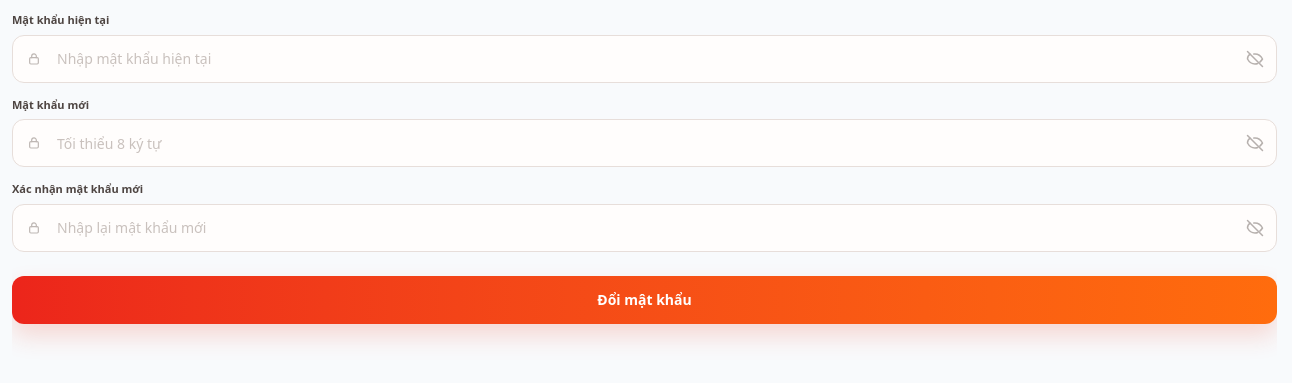
it: ChangePasswordForm › hiển thị title lỗi 400 không kèm field errors ở ô mật khẩu hiện tại
In the password field labelled "Mật khẩu hiện tại": (644, 58) [12, 34, 1277, 82], type "wrong-password"
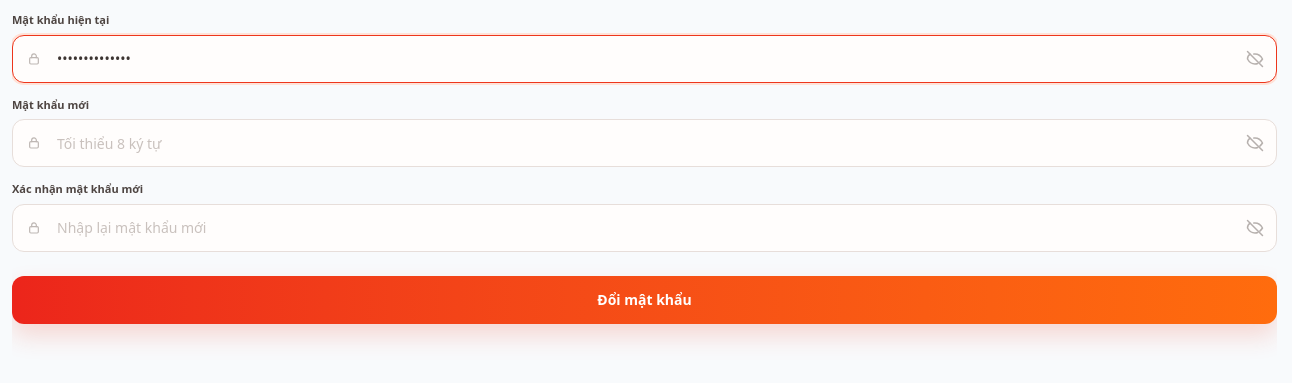
In the password field labelled "Mật khẩu mới": (644, 143) [12, 119, 1277, 167], type "new-password-123"
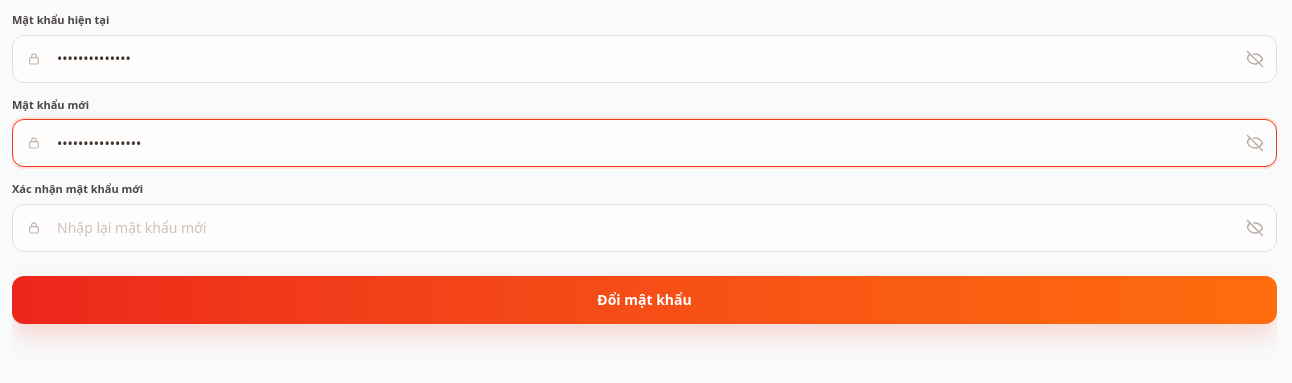
In the password field labelled "Xác nhận mật khẩu mới": (644, 228) [12, 204, 1277, 252], type "new-password-123"
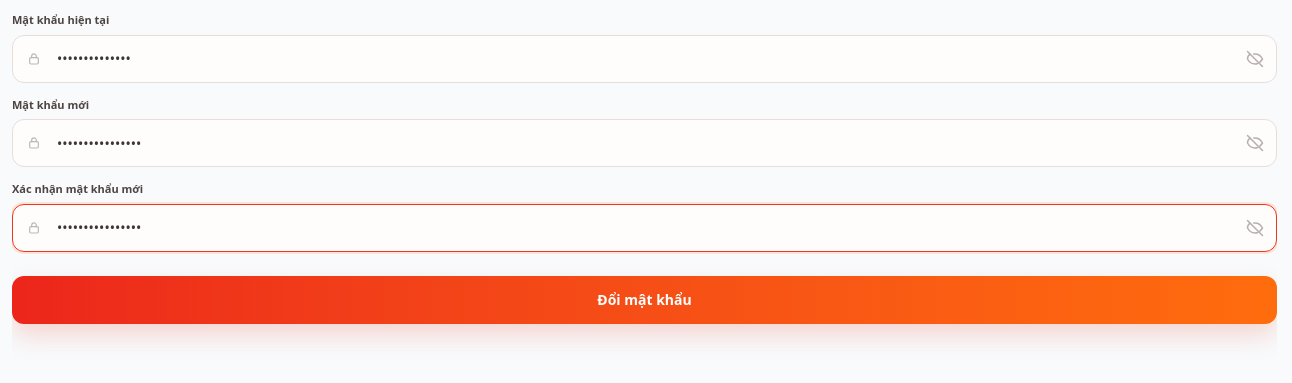
Click the button "Đổi mật khẩu": (644, 300) [12, 276, 1277, 324]
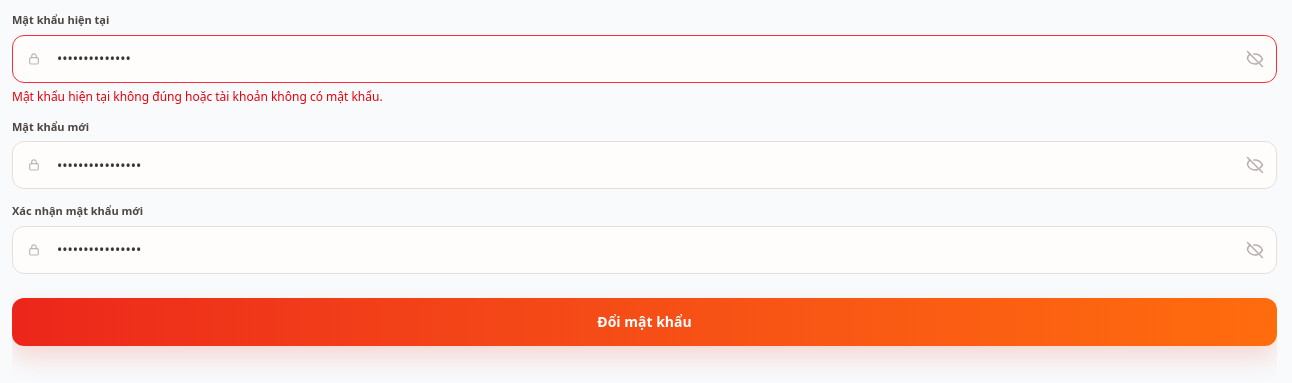
Expected: the text "Mật khẩu hiện tại không đúng hoặc tài khoản không có mật khẩu." is shown, [12, 88, 383, 104]
